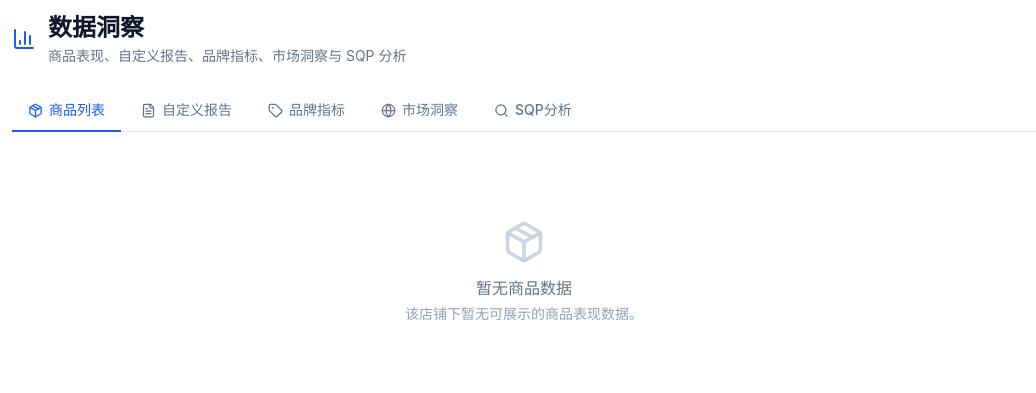
Test: DataInsightsPage activation gating fallback (Req 30.7) › shows a 需要激活 state on the brand surface when gated behind activation
The image size is (1036, 393).
Step 1. Click the button "品牌指标" → (306, 111), box top-left (252, 90), bottom-right (361, 132)
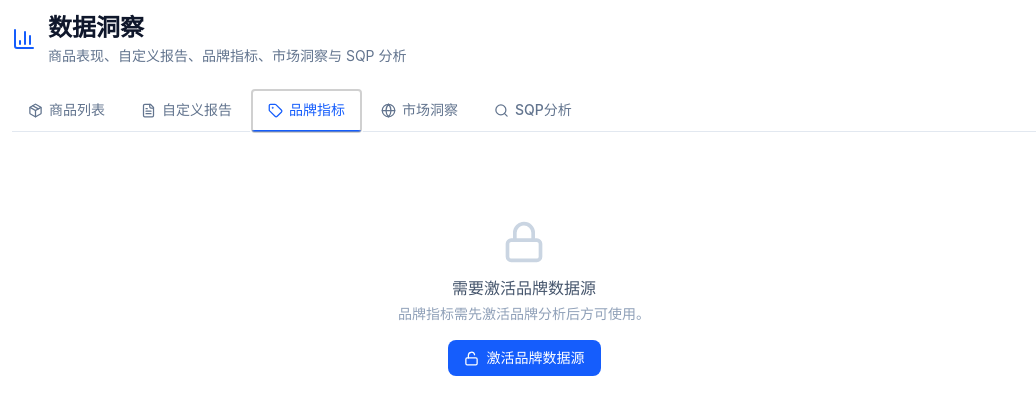
Result: the text "需要激活品牌数据源" is shown at top-left (452, 276), bottom-right (596, 300)
Result: the text "品牌指标需先激活品牌分析后方可使用。" is shown at top-left (398, 304), bottom-right (650, 324)
